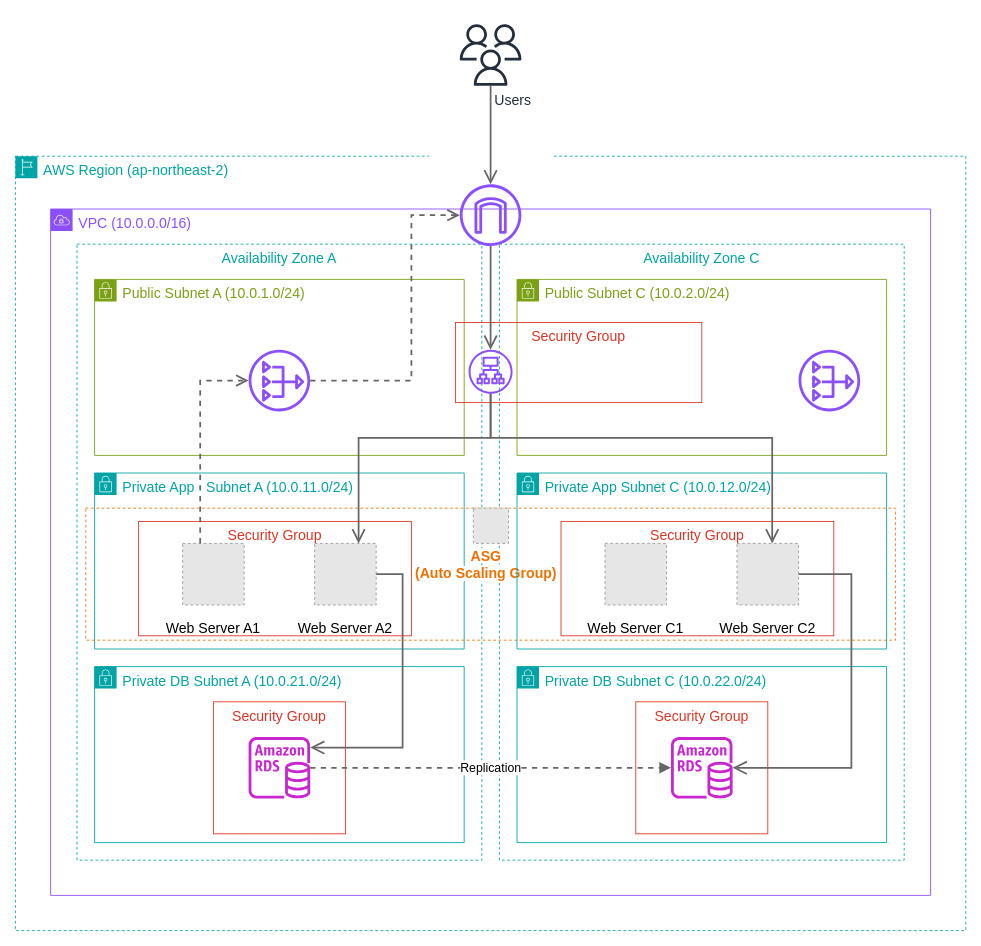
The diagram is 981 pixels wide and 946 high, and some of its shapes have lost their labels. Grey dashed boxes stand in for pictures. The shapes that lost their labels are listed below. From the top down, each one's centre as x and y in pixels, then its label:
pixel 490 215: IGW(Internet Gateway)
pixel 279 380: NAT Gateway A
pixel 490 371: ALB (Application Load Balancer)
pixel 829 380: NAT Gateway C
pixel 279 767: RDS Primary
pixel 701 767: RDS Standby
